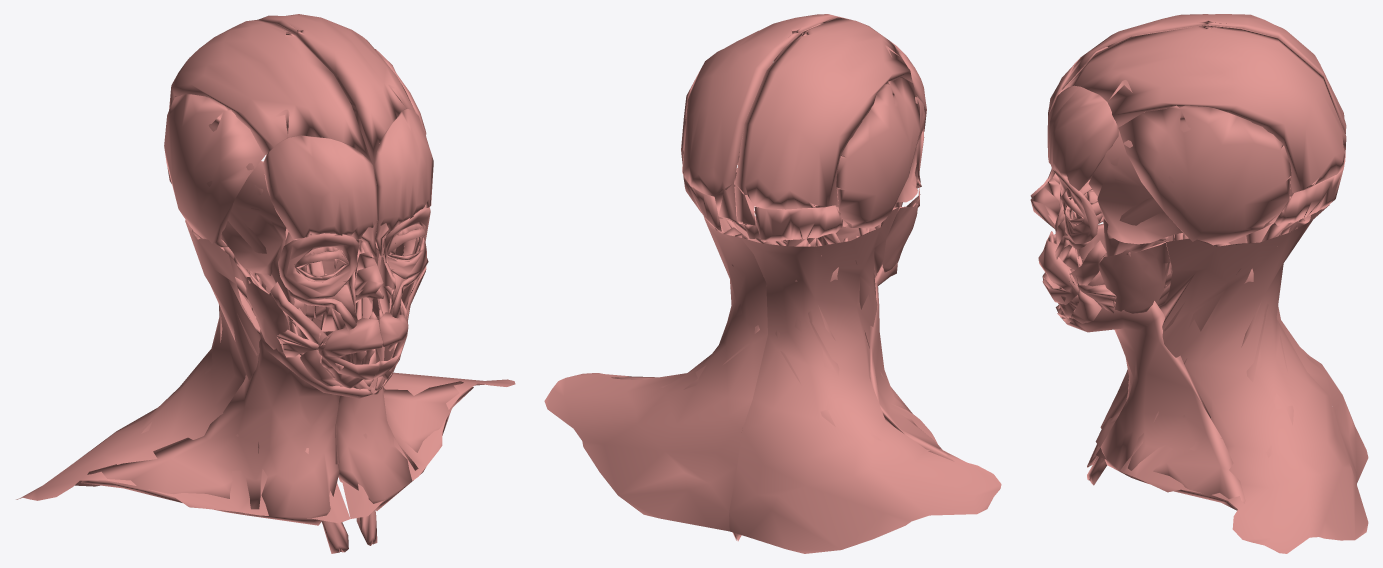
Rendered from lod1-head-muscle.glb.
3 views of the same model, side by side, from view 1: azimuth 30°, elevation 25°; view 2: azimuth 150°, elevation 25°; view 3: azimuth 270°, elevation 25° (orthographic). The views are drawn at different scales.
Visible parts, largest first — view 1: part::Platysma.r, part::Superficial investing cervical fascia.r, part::Epicranial aponeurosis.r, part::Temporoparietalis muscle.r, part::Frontalis muscle.r, part::Platysma.l, part::Epicranial aponeurosis.l, part::Frontalis muscle.l, part::Superficial layer of temporal fascia.r, part::Superficial investing cervical fascia.l, part::Orbital part of orbicularis oculi.r, part::Orbicularis oris muscle.r (+14 smaller); view 2: part::Superficial investing cervical fascia.r, part::Superficial investing cervical fascia.l, part::Epicranial aponeurosis.r, part::Epicranial aponeurosis.l, part::Temporoparietalis muscle.r, part::Platysma.r, part::Occipitalis muscle.r, part::Masseteric fascia.r, part::Ascending part of trapezius muscle.r, part::Occipitalis muscle.l, part::Superficial layer of temporal fascia.r; view 3: part::Superficial investing cervical fascia.l, part::Epicranial aponeurosis.l, part::Temporoparietalis muscle.l, part::Platysma.l, part::Frontalis muscle.l, part::Superficial layer of temporal fascia.l, part::Epicranial aponeurosis.r, part::Masseteric fascia.l, part::Superficial investing cervical fascia.r, part::Occipitalis muscle.l, part::Orbicularis oris muscle.l, part::Temporalis muscle.l (+8 smaller).
Part boxes in pixels (x1,y1,x2,y2): part::Platysma.r: [81, 329, 372, 525]; part::Superficial investing cervical fascia.r: [16, 220, 350, 523]; part::Epicranial aponeurosis.r: [169, 19, 371, 162]; part::Temporoparietalis muscle.r: [164, 94, 264, 247]; part::Frontalis muscle.r: [262, 135, 377, 239]; part::Platysma.l: [335, 308, 473, 510]; part::Epicranial aponeurosis.l: [258, 14, 415, 161]; part::Frontalis muscle.l: [374, 109, 433, 231]; part::Superficial layer of temporal fascia.r: [221, 161, 286, 275]; part::Superficial investing cervical fascia.l: [262, 161, 515, 518]; part::Orbital part of orbicularis oculi.r: [278, 233, 359, 299]; part::Orbicularis oris muscle.r: [318, 318, 382, 379]; part::Superficial investing cervical fascia.r: [729, 206, 1001, 553]; part::Superficial investing cervical fascia.l: [544, 168, 767, 531]; part::Epicranial aponeurosis.r: [735, 17, 912, 225]; part::Epicranial aponeurosis.l: [682, 14, 851, 222]; part::Temporoparietalis muscle.r: [836, 77, 919, 228]; part::Platysma.r: [869, 262, 954, 461]; part::Occipitalis muscle.r: [754, 205, 842, 242]; part::Masseteric fascia.r: [877, 200, 919, 272]; part::Ascending part of trapezius muscle.r: [775, 280, 881, 440]; part::Occipitalis muscle.l: [683, 175, 721, 231]; part::Superficial layer of temporal fascia.r: [896, 96, 925, 202]; part::Superficial investing cervical fascia.l: [1096, 205, 1368, 553]; part::Epicranial aponeurosis.l: [1059, 25, 1346, 192]; part::Temporoparietalis muscle.l: [1118, 105, 1291, 244]; part::Platysma.l: [1057, 301, 1245, 510]; part::Frontalis muscle.l: [1047, 85, 1118, 190]; part::Superficial layer of temporal fascia.l: [1088, 135, 1182, 244]; part::Epicranial aponeurosis.r: [1058, 14, 1346, 133]; part::Masseteric fascia.l: [1099, 242, 1170, 313]; part::Superficial investing cervical fascia.r: [1095, 185, 1368, 484]; part::Occipitalis muscle.l: [1274, 166, 1344, 225]; part::Orbicularis oris muscle.l: [1038, 240, 1079, 304]; part::Temporalis muscle.l: [1090, 145, 1177, 256].
Size of the model in its own units: 0.3486 by 0.3484 by 0.2203.
